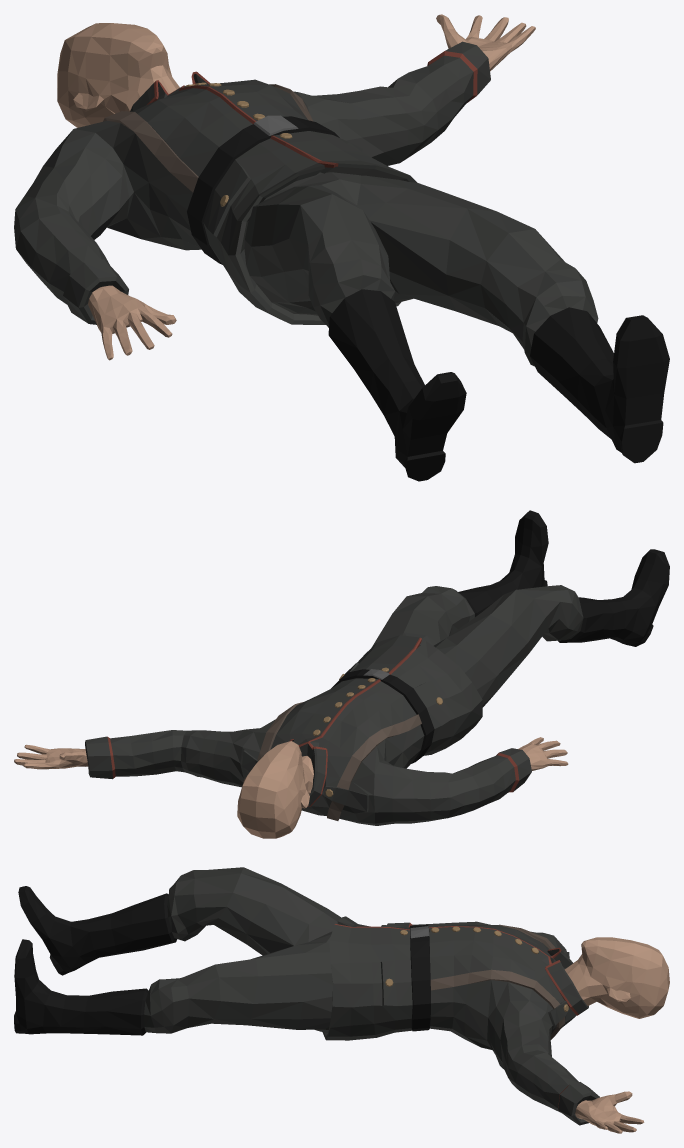
The model's file is Cha_Soldier_Ger_Dead_01.fbx.
3 renders of one model, top to bottom at view 1: azimuth 30°, elevation 25°; view 2: azimuth 150°, elevation 25°; view 3: azimuth 270°, elevation 25°, orthographic. The views are drawn at different scales.
Visible parts, largest first — view 1: Cha_Soldier_Ger_Dead_01_LOD0; view 2: Cha_Soldier_Ger_Dead_01_LOD0; view 3: Cha_Soldier_Ger_Dead_01_LOD0.
Part boxes in pixels (bbox=[...]): Cha_Soldier_Ger_Dead_01_LOD0: bbox=[14, 14, 669, 481]; Cha_Soldier_Ger_Dead_01_LOD0: bbox=[14, 510, 669, 838]; Cha_Soldier_Ger_Dead_01_LOD0: bbox=[14, 867, 669, 1133].
Size of what is drawn, in the model's own units: 131 by 40.61 by 179.
